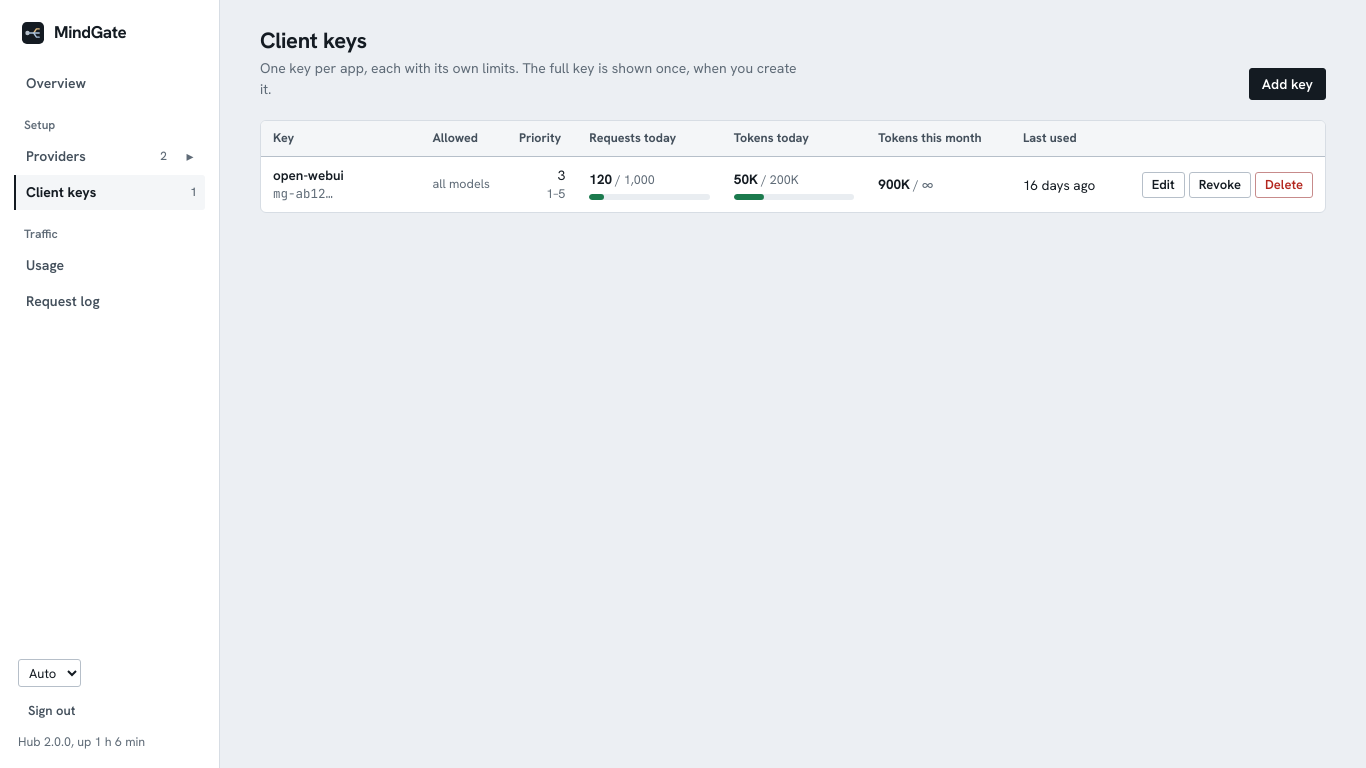
the app › goes to the page in the address and keeps the menu in step
Check: the heading "Client keys" is shown, box x1=260 y1=26 x2=367 y2=55
Click the link "Request log" at (63,300), box x1=26 y1=292 x2=100 y2=310
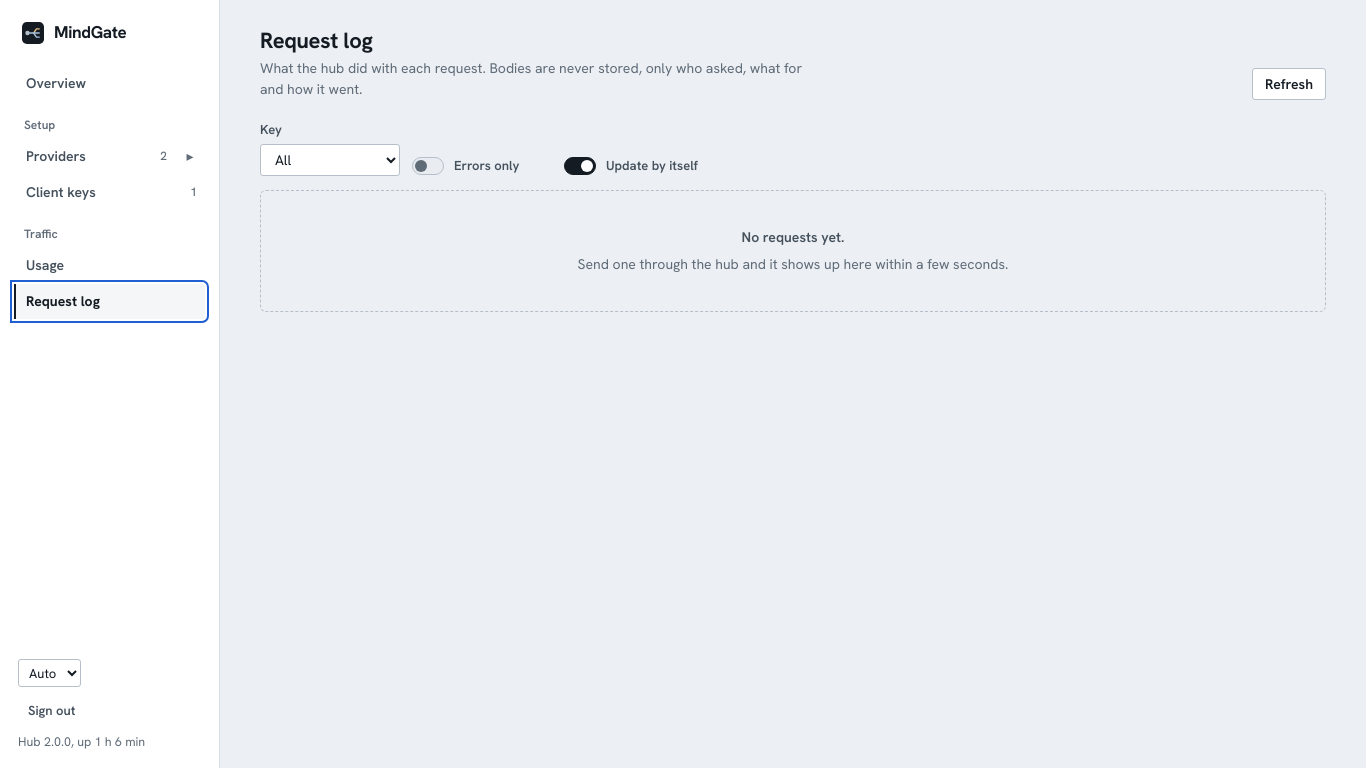
Check: the heading "Request log" is shown, box x1=260 y1=26 x2=373 y2=55
